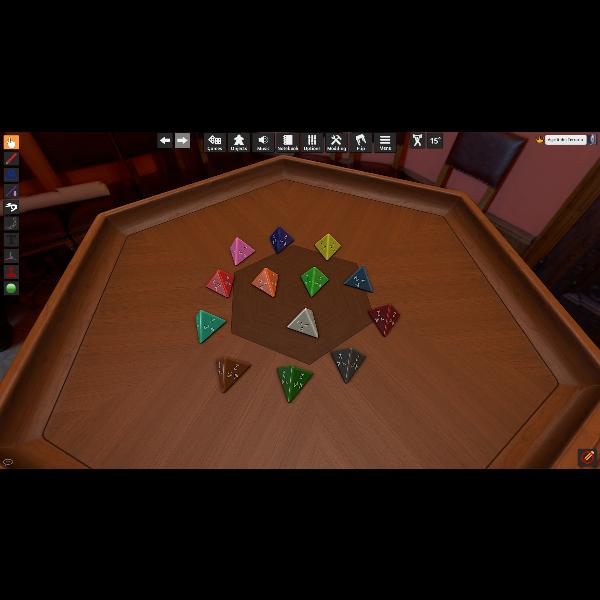d4: (276, 366, 312, 403), (216, 355, 250, 392), (331, 347, 365, 382), (195, 309, 227, 343), (368, 304, 398, 336), (287, 308, 317, 338), (251, 266, 278, 296), (205, 268, 232, 298), (343, 265, 371, 293), (300, 266, 326, 296), (230, 236, 254, 266), (314, 234, 340, 260), (269, 226, 293, 254)
